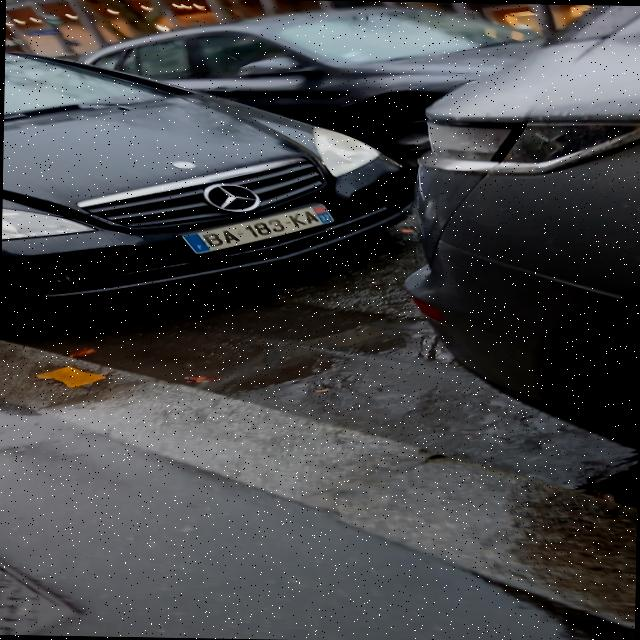EU: (181, 202, 336, 255)
France: (182, 232, 208, 253)
